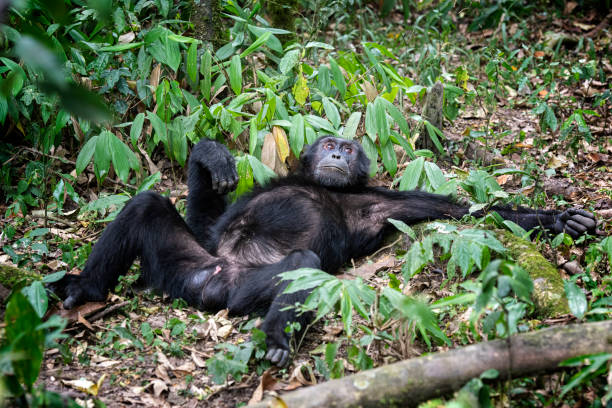chimpanzee: (300, 129, 387, 196)
